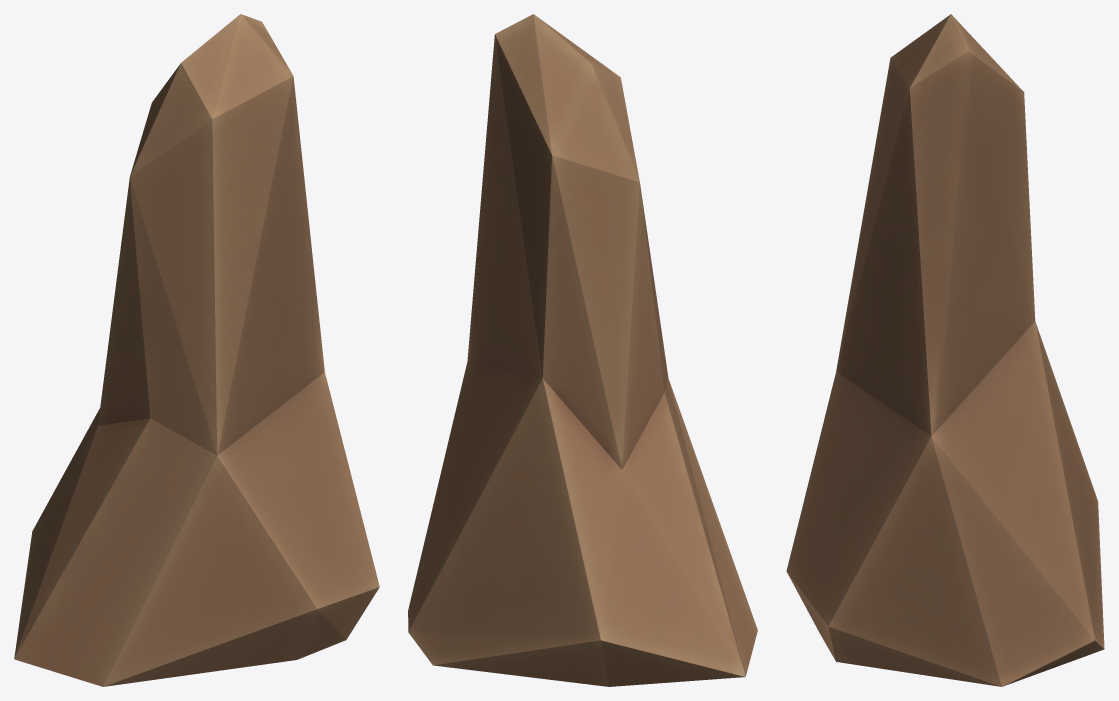
The model's file is Rock_18.fbx.
3 renders of one model, left to right at view 1: azimuth 30°, elevation 25°; view 2: azimuth 150°, elevation 25°; view 3: azimuth 270°, elevation 25°, orthographic. The views are drawn at different scales.
Parts seen in each view (by area): view 1: Rock_18; view 2: Rock_18; view 3: Rock_18.
Part boxes in pixels (x1,y1,x2,y2): Rock_18: (14,14,379,686); Rock_18: (408,14,757,686); Rock_18: (786,14,1104,686).
Bounding box in the file's own units: 28.15 × 50.53 × 23.41.
